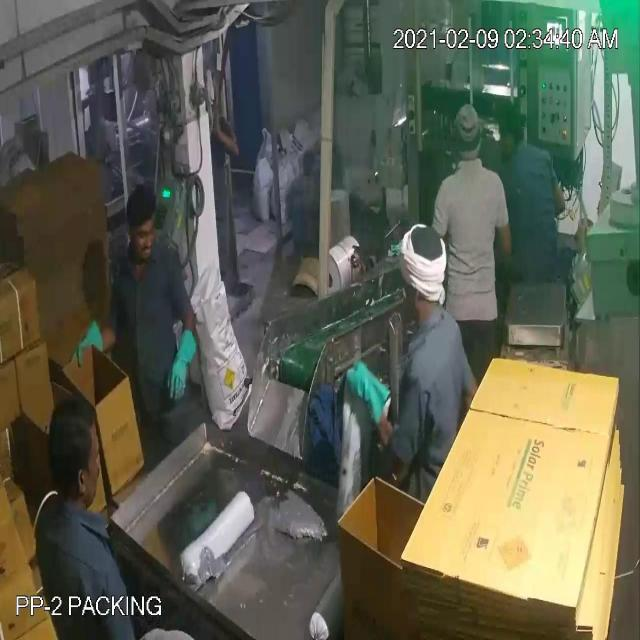Gloves: (51, 60, 365, 396)
